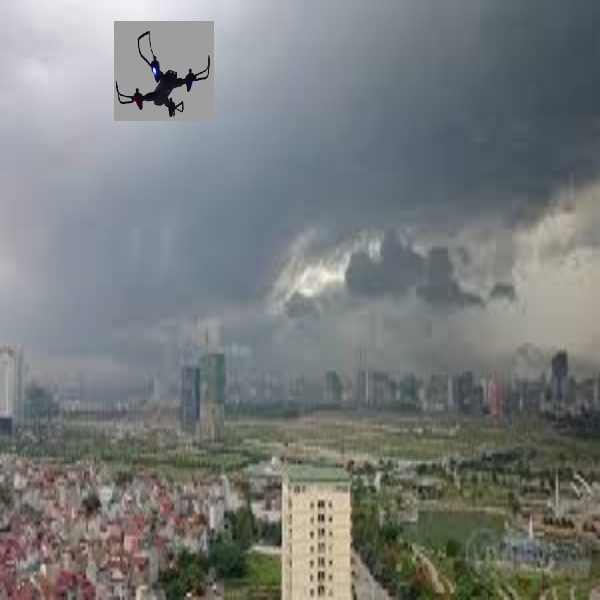drone: (111, 26, 215, 122)
